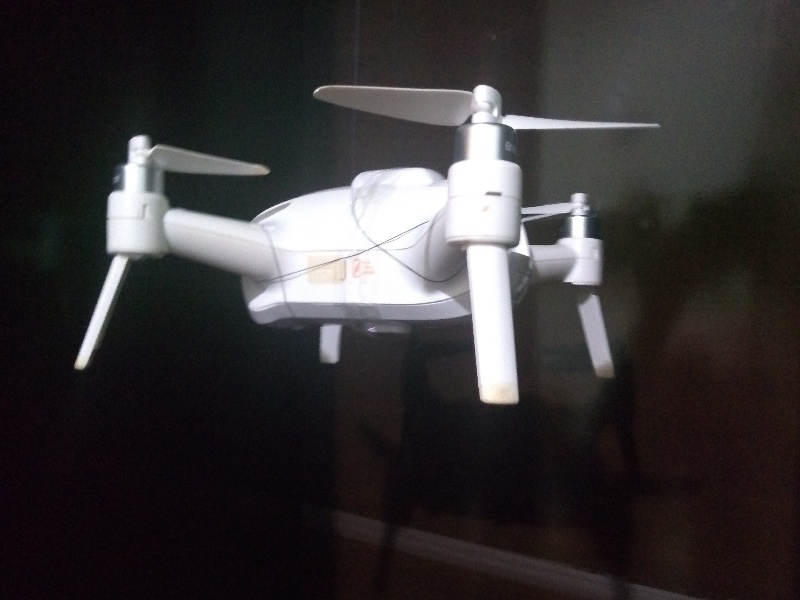drone: (66, 77, 662, 421)
